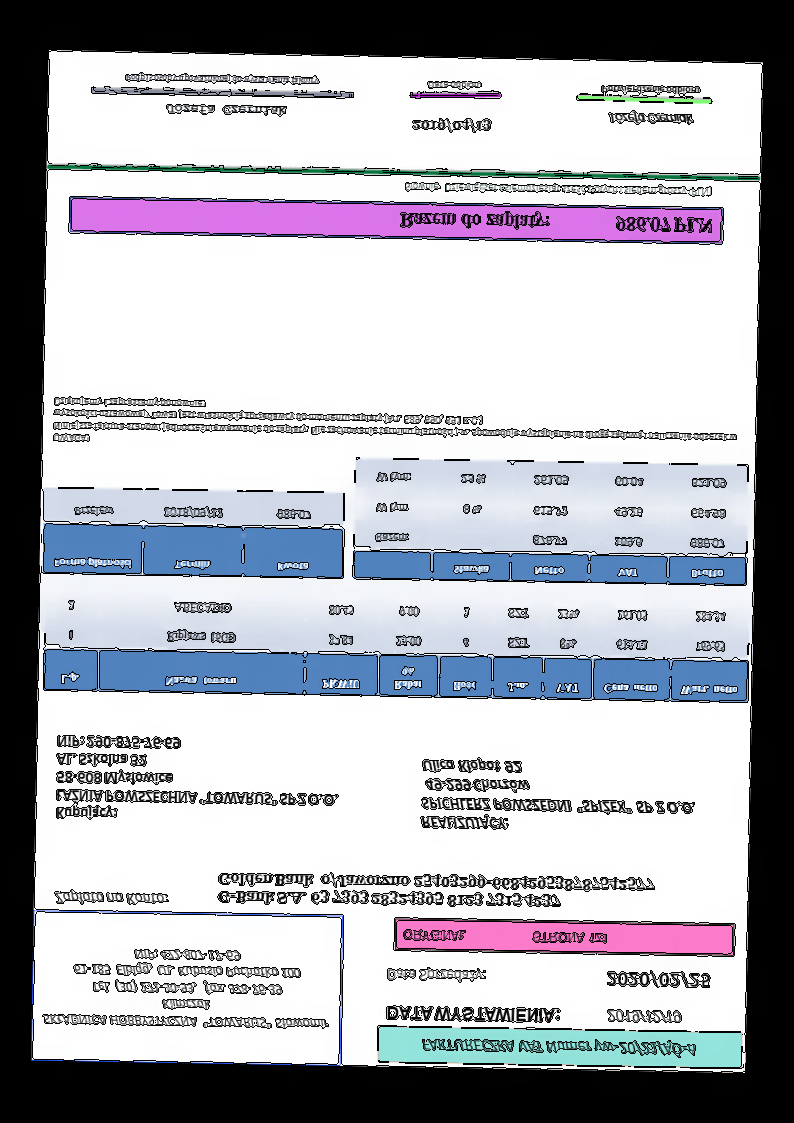Table: (42, 584, 749, 706), (353, 456, 751, 587), (41, 485, 344, 580)
TextBox: (51, 393, 740, 458), (53, 733, 341, 828), (38, 944, 334, 1034), (418, 755, 699, 837), (215, 866, 657, 916), (397, 208, 714, 238), (417, 1033, 700, 1062), (402, 178, 716, 201), (399, 926, 612, 949), (384, 1002, 563, 1028), (123, 71, 321, 89), (604, 969, 713, 993), (385, 964, 488, 987), (53, 890, 169, 910), (164, 102, 288, 119), (604, 109, 696, 130), (603, 1006, 685, 1029), (409, 114, 492, 136), (599, 81, 703, 98), (424, 79, 485, 94)
